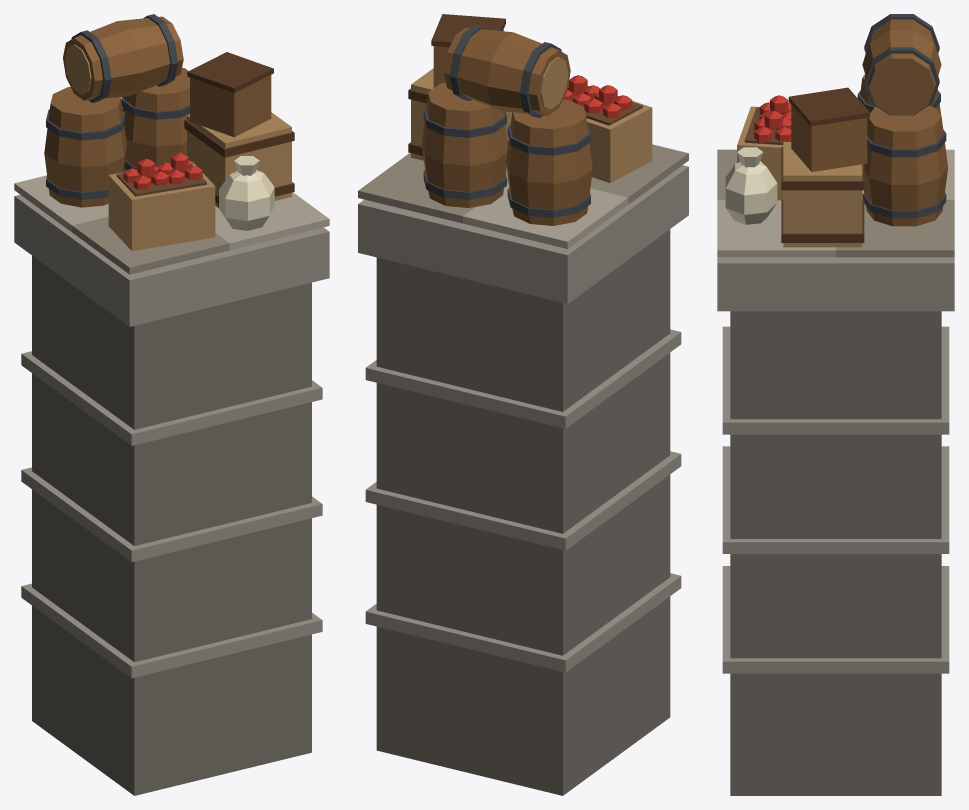
Rendered from decor_barrel_stack.glb.
3 views of the same model, side by side, from view 1: azimuth 30°, elevation 25°; view 2: azimuth 150°, elevation 25°; view 3: azimuth 270°, elevation 25° (orthographic). The views are drawn at different scales.
Parts seen in each view (by area): view 1: decor_barrel_stack; view 2: decor_barrel_stack; view 3: decor_barrel_stack.
Boxes of the visible parts, box(x1,y1,x2,y2) form: decor_barrel_stack: box(14, 14, 329, 795); decor_barrel_stack: box(358, 14, 688, 795); decor_barrel_stack: box(717, 14, 954, 795).
Bounding box in the file's own units: 1.8 × 5.96 × 1.8.
